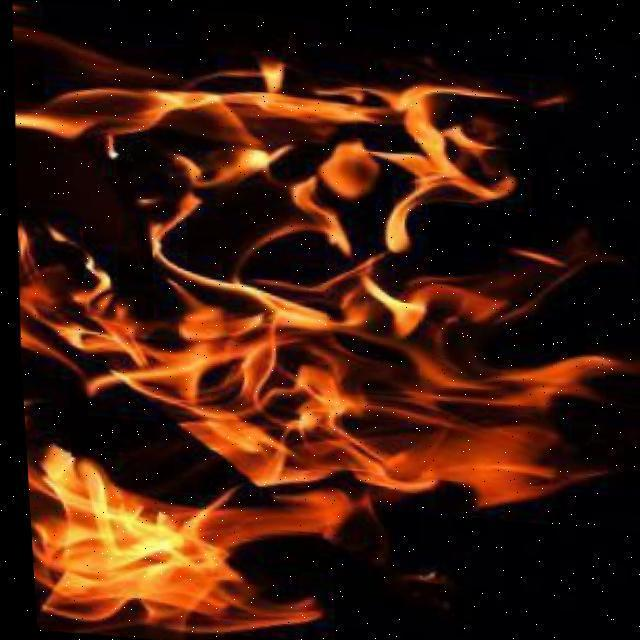fire: (19, 230, 618, 502), (20, 53, 525, 273), (25, 443, 355, 629)
